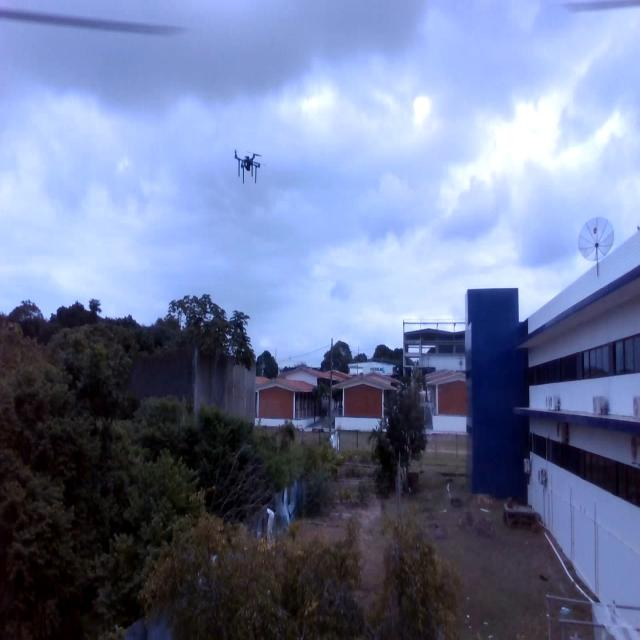-uav-: (228, 140, 264, 196)
